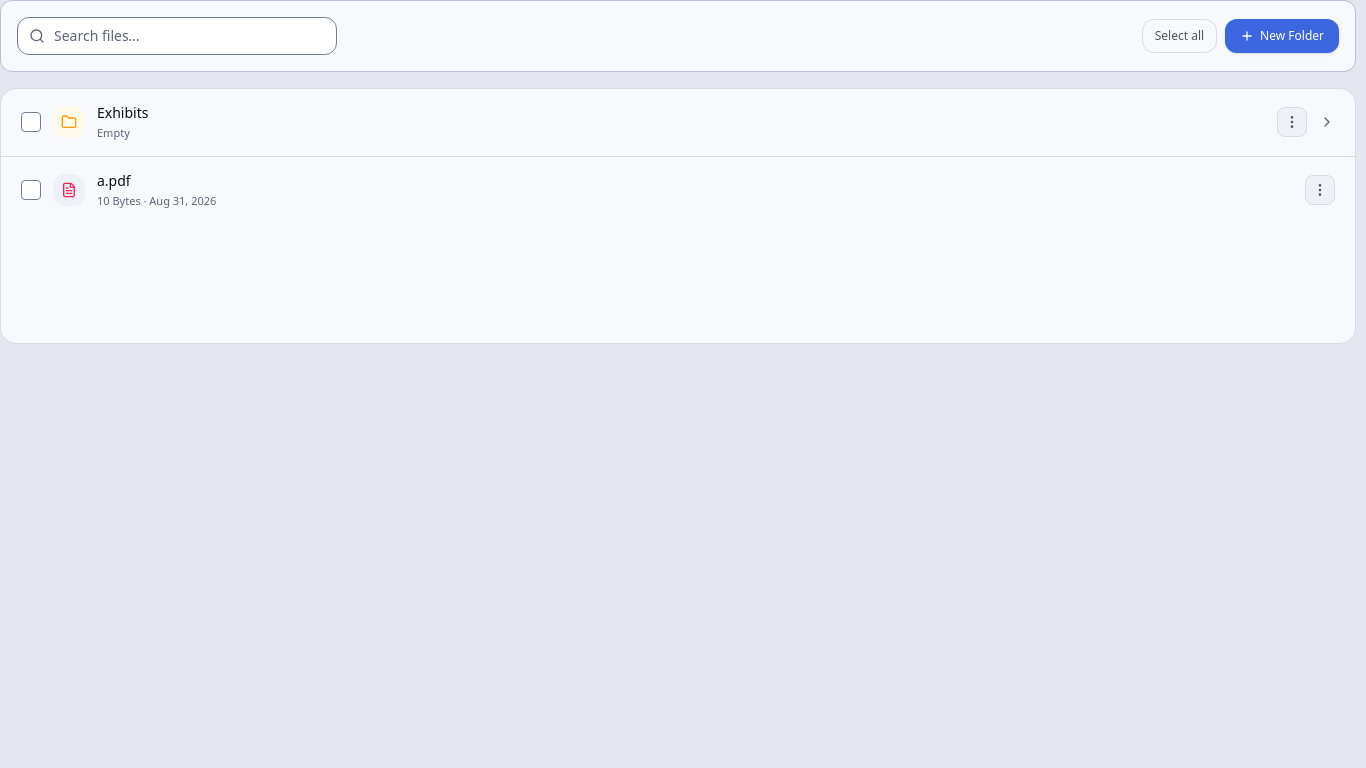
Scenario: shows a refused move inside the still-open move picker
expect the text "a.pdf" is shown: met, box [97, 170, 131, 190]
What coordinates should you click on to do the following:
click the button named "More actions" in the row of "10 Bytes · Aug 31, 2026"
I would click on:
 (1320, 190)
Its box is [1305, 175, 1335, 205].
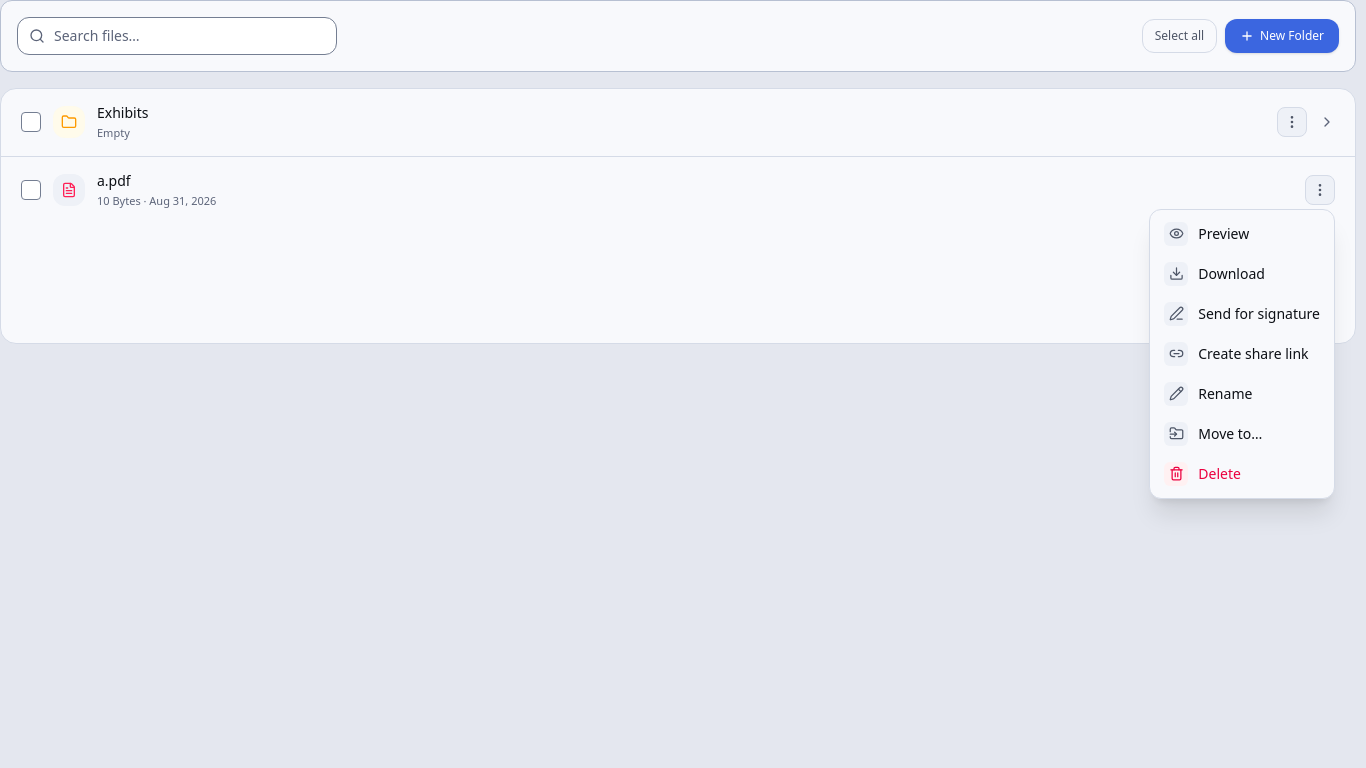
What coordinates should you click on to do the following:
click the button "Move to…"
I would click on:
 (1242, 434)
Its box is [1154, 414, 1330, 454].
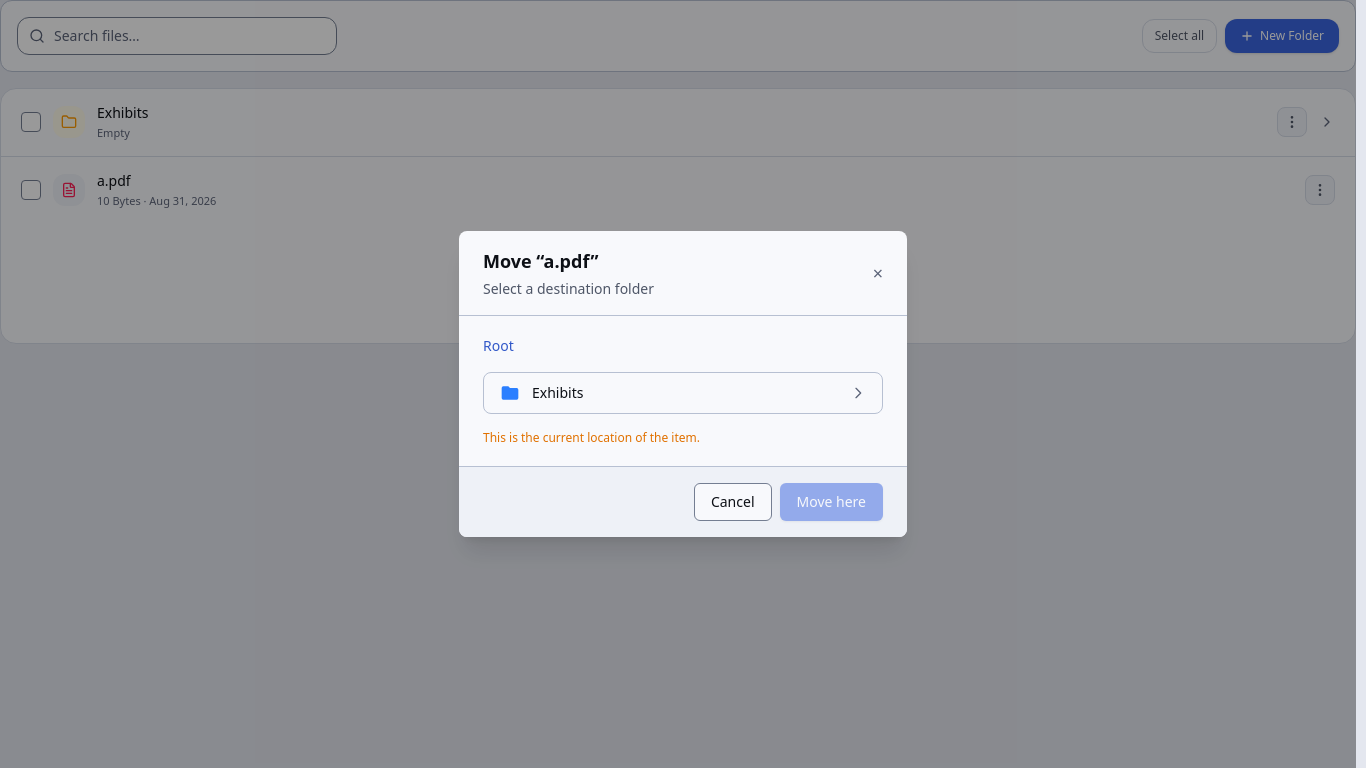
What coordinates should you click on to do the following:
click the button "Exhibits"
I would click on:
 (558, 392)
Its box is [484, 373, 882, 413].
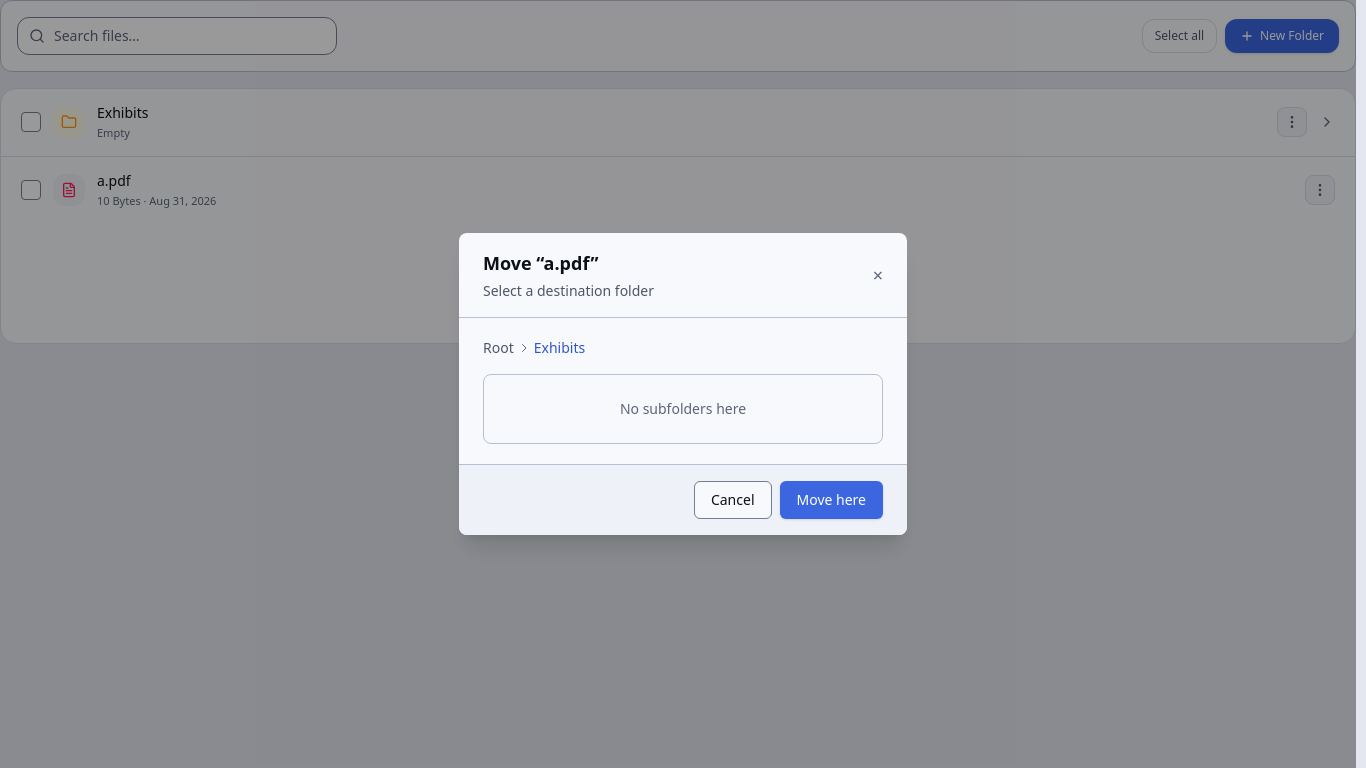
expect the text "No subfolders here" is shown: met, box [620, 399, 746, 418]
What coordinates should you click on to do the following:
click the button "Move here"
I would click on:
 (831, 500)
Its box is [780, 481, 883, 519].
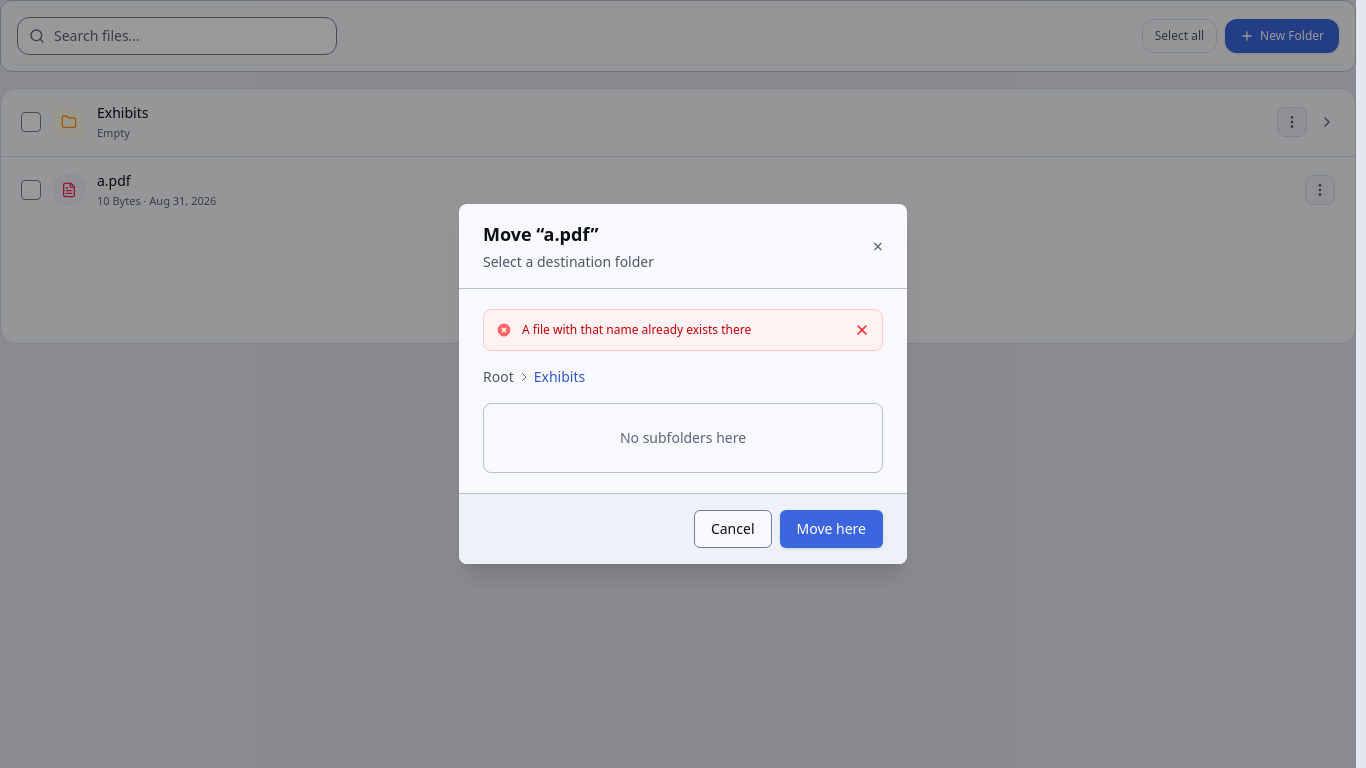
expect the text "A file with that name already exists there" is shown: met, box [522, 321, 751, 338]
